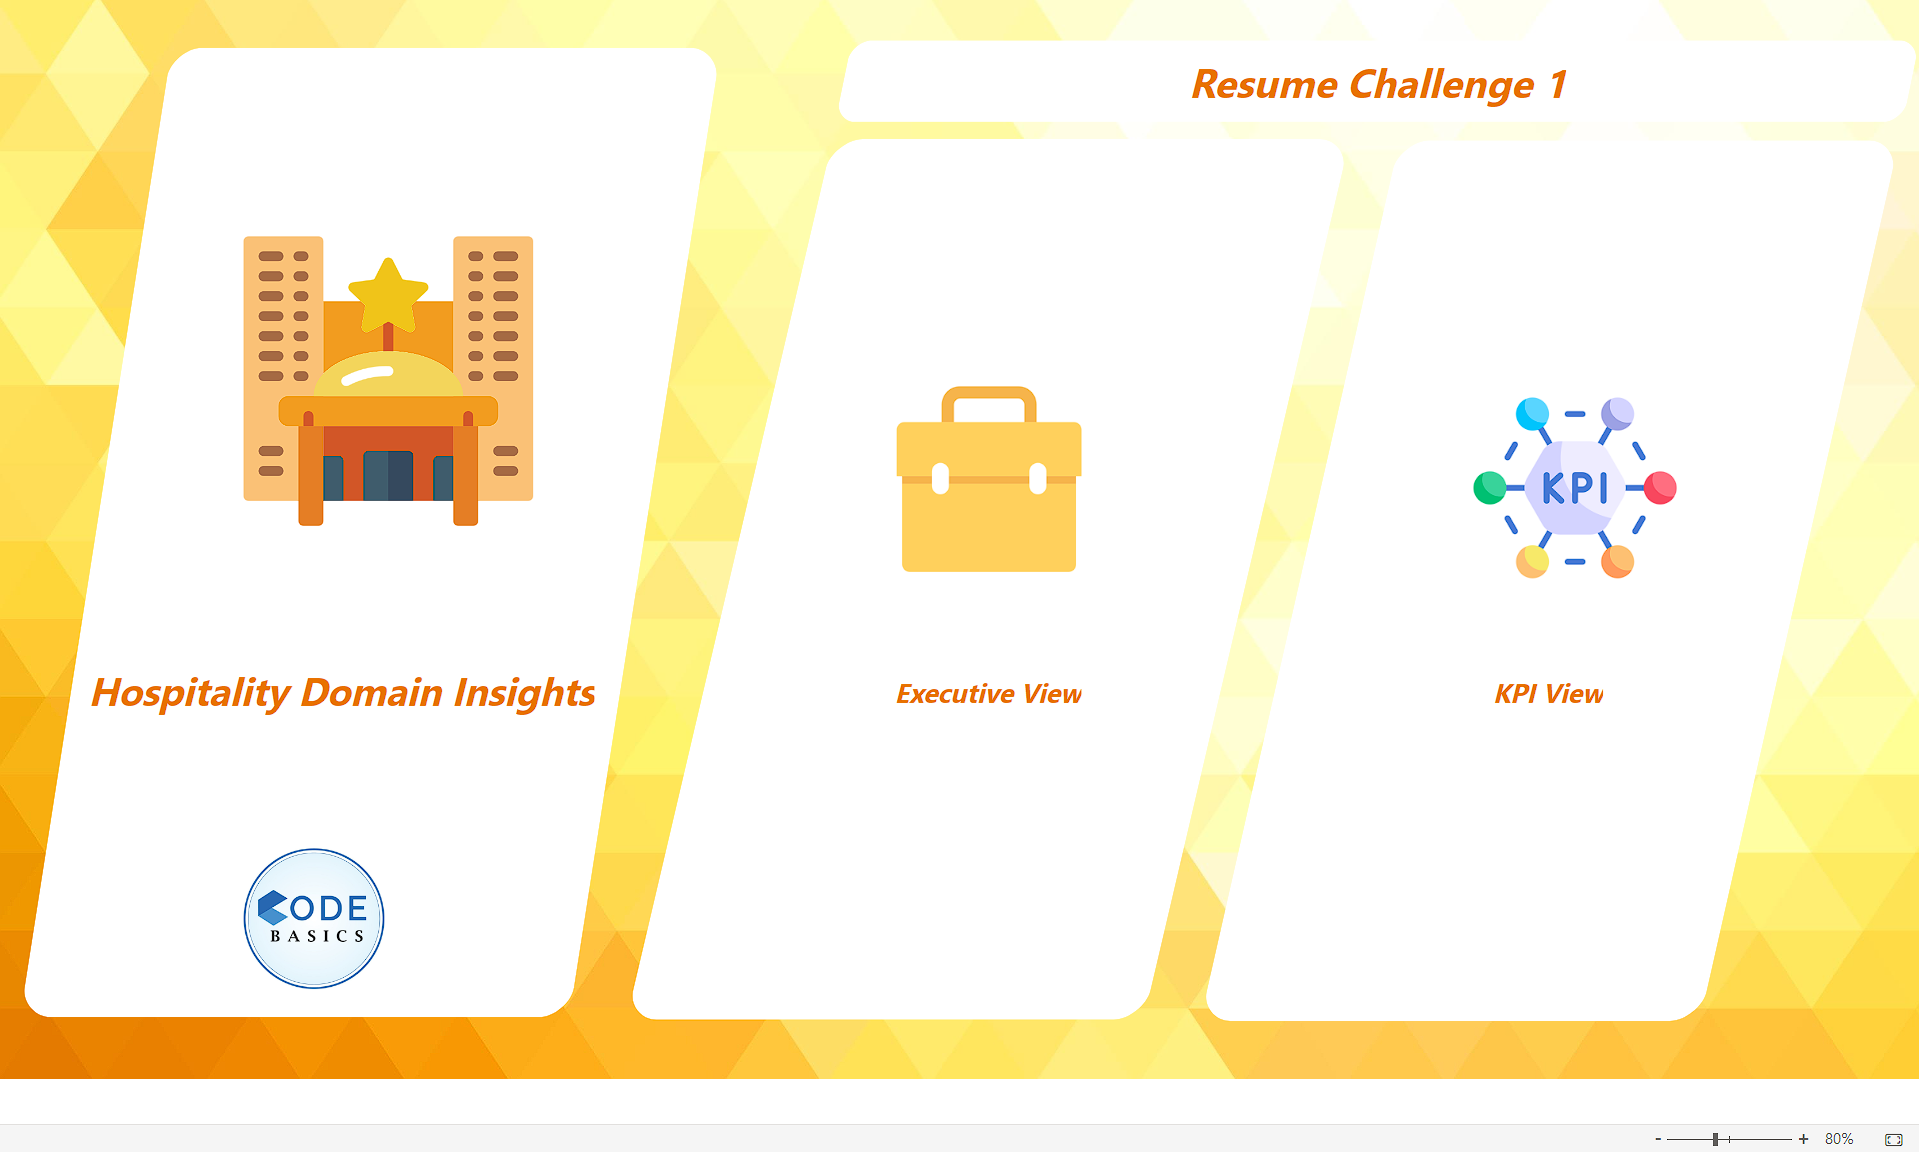

This screenshot's page, from the dashboard's own definition file:
{"tool":"powerbi","page":{"name":"Home Page","canvas":[1920,1080],"ordinal":0},"visuals":[{"type":"shape","box":[20.3,42.3,701.2,977.3],"z":0,"group":"g1"},{"type":"shape","box":[835.5,41.9,1084.9,82],"z":0},{"type":"shape","box":[626.2,139.5,723.8,880.8],"z":1000},{"type":"shape","box":[1200,141.3,699.4,880.8],"z":2000},{"type":"group","id":"g1","title":"Group 4","box":[0,42.3,721.5,977.3],"z":3000},{"type":"shape","box":[0,541.9,682.6,299.8],"z":4000,"group":"g1"},{"type":"shape","box":[755.2,542.4,465.7,300],"z":4000},{"type":"image","box":[238.8,841.8,150.7,157.5],"z":5000},{"type":"shape","box":[1266.3,542.4,563.4,300],"z":6000},{"type":"image","box":[839,382,300,195.3],"z":7000},{"type":"image","box":[238.8,232,299.8,299.8],"z":8000,"group":"g1"},{"type":"image","box":[1377.9,382,395.9,212.8],"z":8000}]}

Visuals, with their boxes on the page's 1920x1080 design canvas (x1, y1, x2, y2). These are canvas units, not pixel positions in the 1919x1152 screenshot, which may show the page scaled, cropped or inside an application window:
shape: (left=20, top=42, right=722, bottom=1020)
shape: (left=836, top=42, right=1920, bottom=124)
shape: (left=626, top=140, right=1350, bottom=1020)
shape: (left=1200, top=141, right=1899, bottom=1022)
"Group 4" group: (left=0, top=42, right=722, bottom=1020)
shape: (left=0, top=542, right=683, bottom=842)
shape: (left=755, top=542, right=1221, bottom=842)
image: (left=239, top=842, right=390, bottom=999)
shape: (left=1266, top=542, right=1830, bottom=842)
image: (left=839, top=382, right=1139, bottom=577)
image: (left=239, top=232, right=539, bottom=532)
image: (left=1378, top=382, right=1774, bottom=595)
